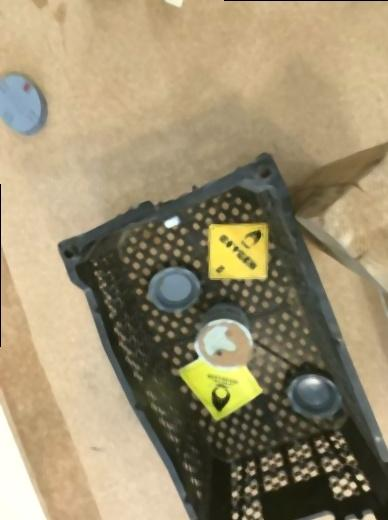oxidizer: (175, 349, 261, 423), (207, 223, 267, 280)
